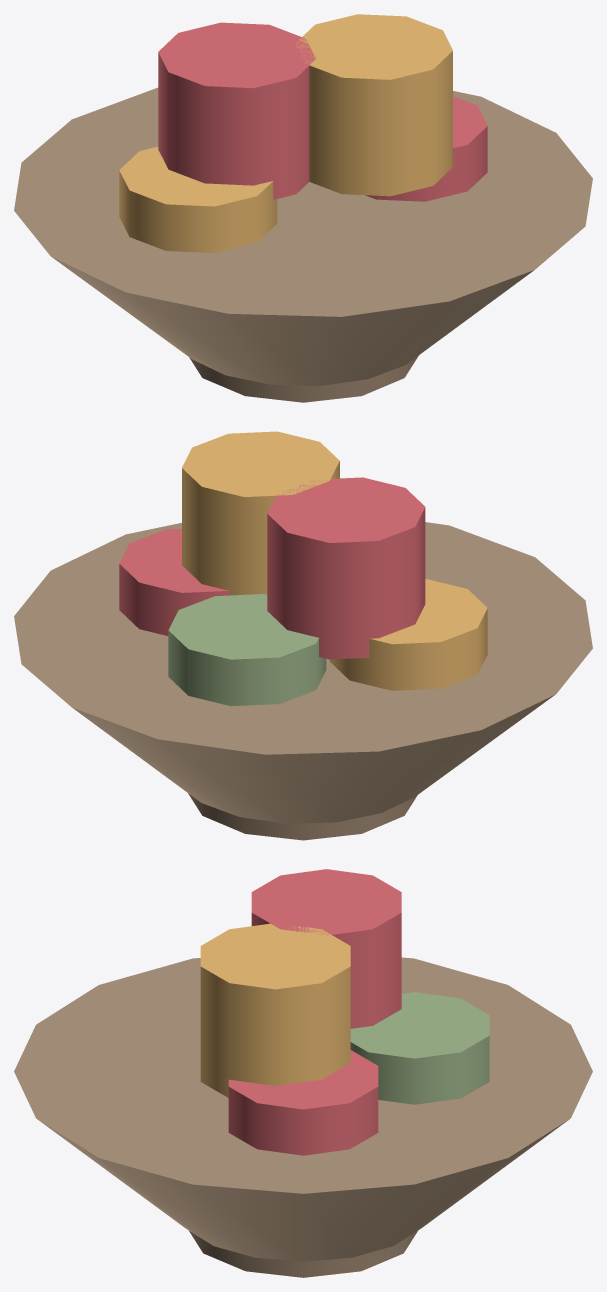
Rendered from fruit-bowl.gltf.
The picture shows the model from 3 angles, top to bottom: view 1: azimuth 30°, elevation 25°; view 2: azimuth 150°, elevation 25°; view 3: azimuth 270°, elevation 25°; orthographic projection.
Parts seen in each view (by area): view 1: Bowl, Fruit5, Fruit4, Fruit1, Fruit2, BowlFoot; view 2: Bowl, Fruit4, Fruit5, Fruit3, Fruit1, Fruit2, BowlFoot; view 3: Bowl, Fruit5, Fruit4, Fruit3, Fruit2, BowlFoot.
Part boxes in pixels (x1,y1,x2,y2): Bowl: [14, 87, 592, 385]; Fruit5: [295, 14, 452, 196]; Fruit4: [158, 22, 315, 199]; Fruit1: [119, 146, 277, 252]; Fruit2: [366, 96, 487, 201]; BowlFoot: [189, 355, 418, 402]; Bowl: [14, 522, 592, 823]; Fruit4: [267, 477, 425, 659]; Fruit5: [182, 431, 339, 595]; Fruit3: [168, 594, 326, 706]; Fruit1: [329, 578, 487, 690]; Fruit2: [119, 528, 229, 635]; BowlFoot: [188, 793, 417, 840]; Bowl: [14, 957, 592, 1261]; Fruit5: [200, 923, 350, 1097]; Fruit4: [251, 869, 401, 1028]; Fruit3: [350, 992, 489, 1104]; Fruit2: [228, 1050, 378, 1155]; BowlFoot: [189, 1231, 417, 1277].
Bounding box in the file's own units: 0.0156 × 0.00894 × 0.0156.
